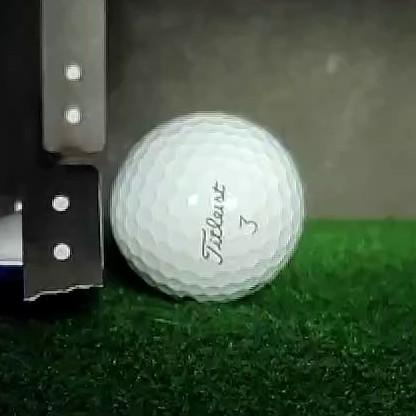golfball: (109, 110, 306, 302)
